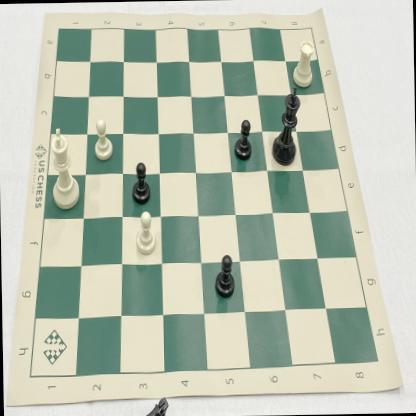king: (44, 122, 84, 210), (268, 88, 302, 169)
pawn: (211, 249, 238, 300), (132, 209, 160, 257), (128, 158, 154, 206), (90, 117, 116, 164), (232, 114, 254, 163)
rook: (292, 37, 316, 90)
